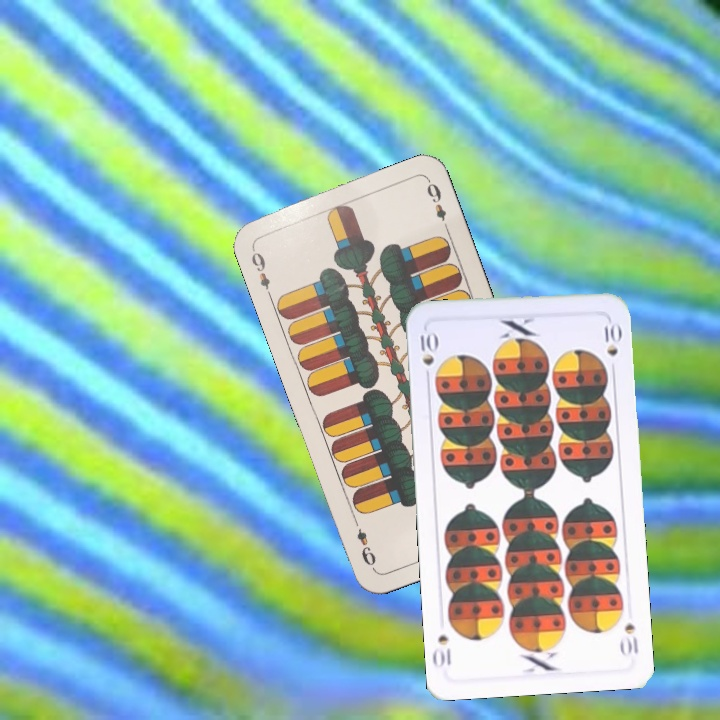E9: (247, 242, 274, 299)
S10: (416, 328, 439, 385), (617, 618, 641, 659)
